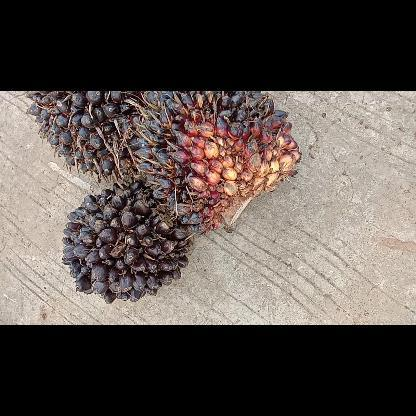TBS mentah: (132, 91, 304, 239), (58, 177, 193, 306), (22, 90, 160, 178)
